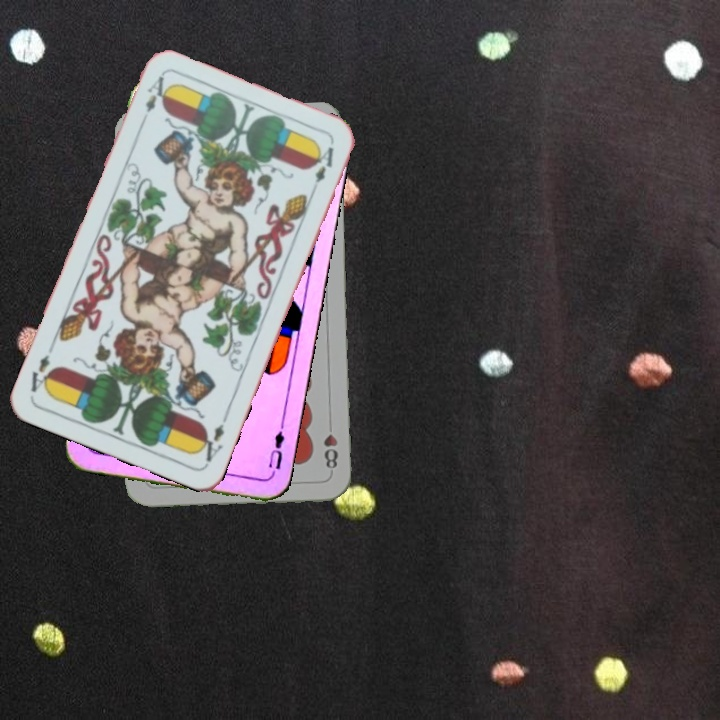EA: (194, 410, 231, 465), (141, 72, 169, 115)
EU: (264, 427, 287, 479)
H8: (320, 417, 340, 476)
